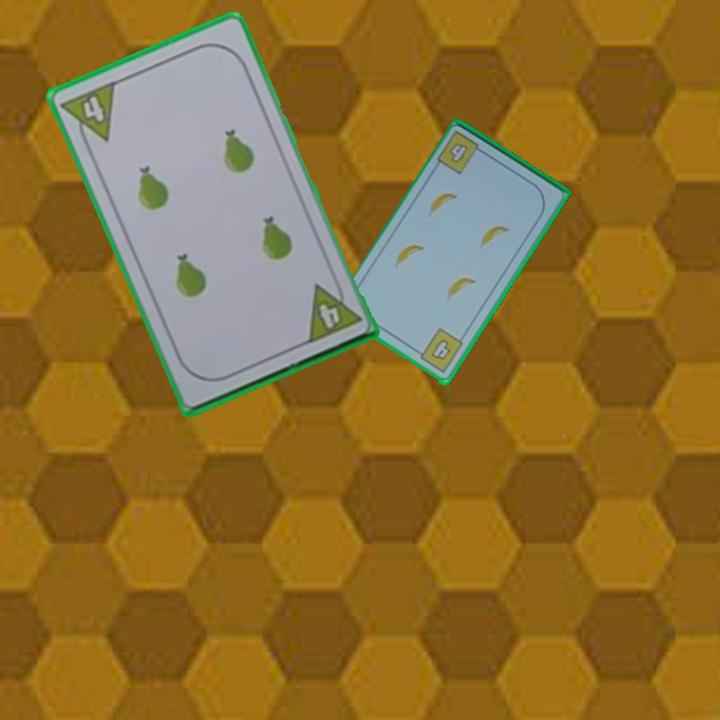4b: (412, 325, 466, 377), (434, 127, 489, 178)
4p: (57, 77, 119, 152), (302, 274, 364, 347)
